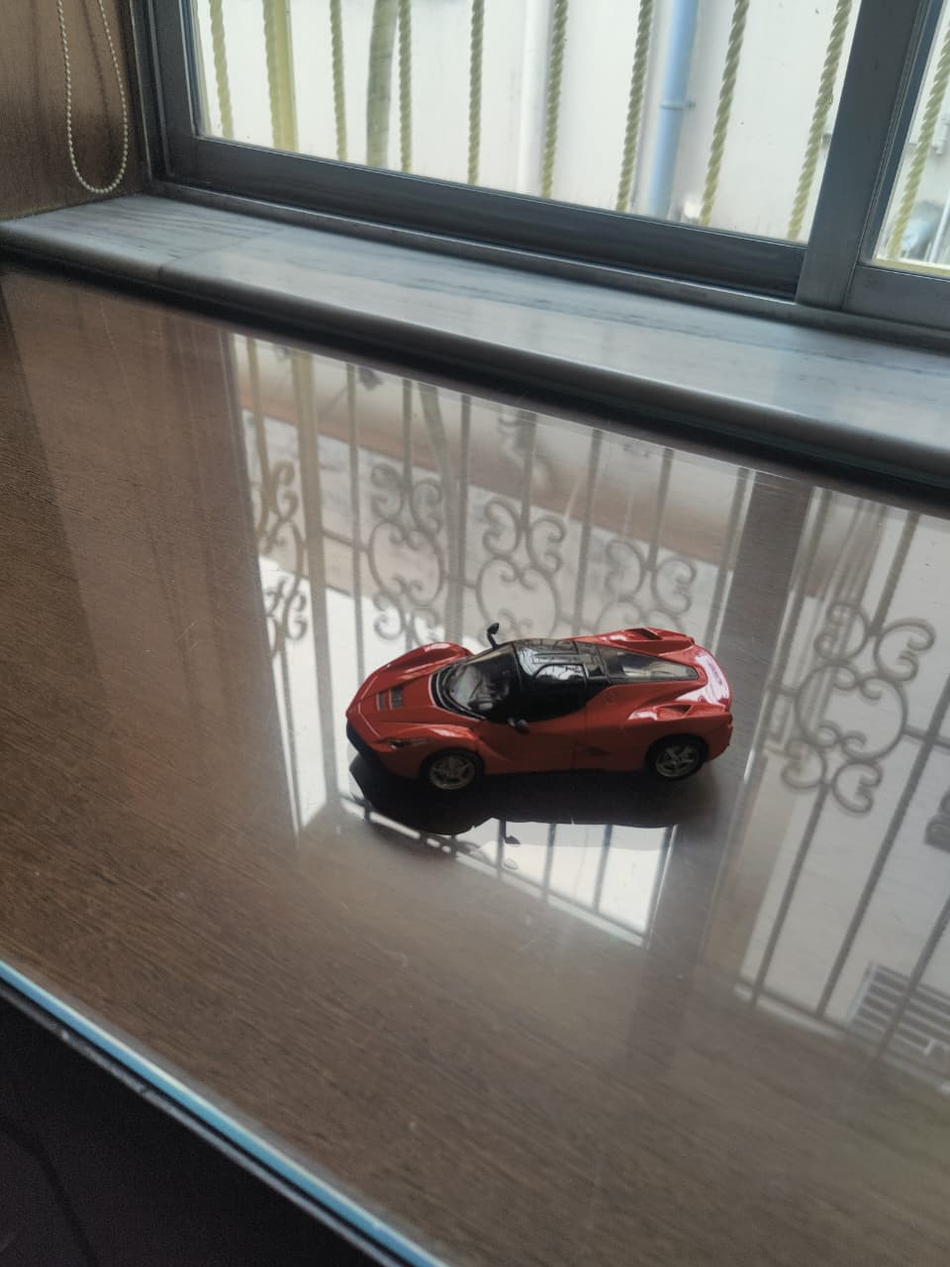car: (346, 622, 733, 795)
